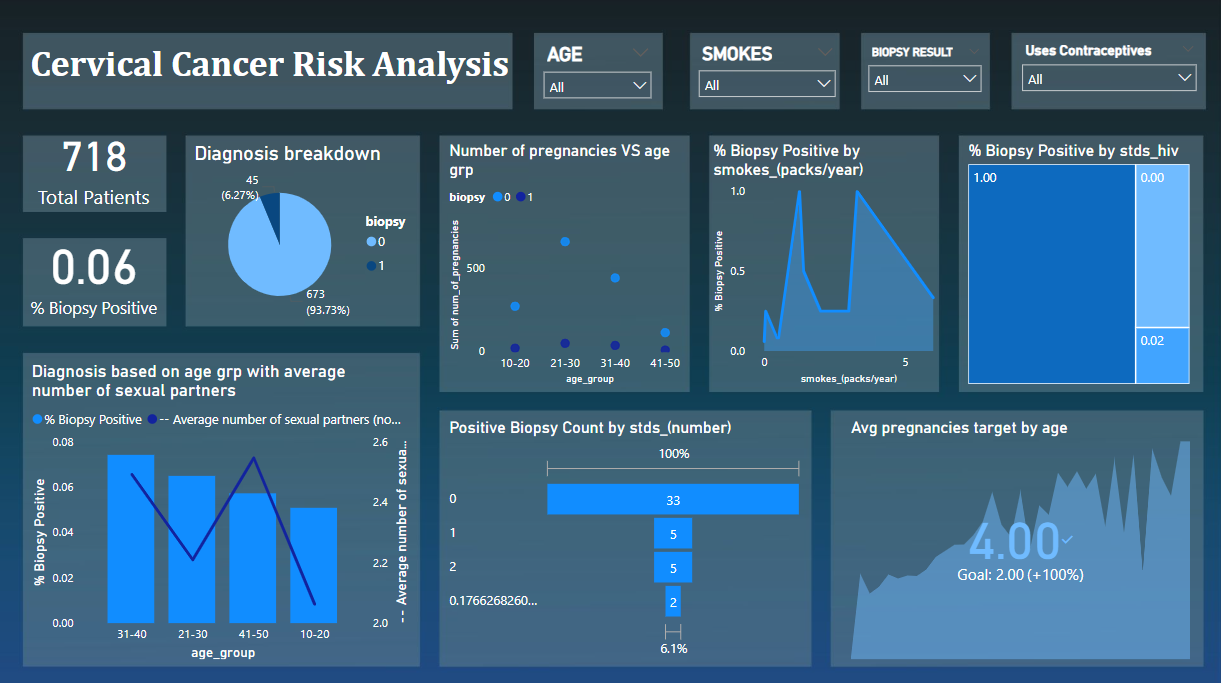

The page's visual inventory and layout, read from the dashboard file:
{"tool":"powerbi","page":{"name":"cervical cancer analysis dashboard","canvas":[1280,720],"ordinal":0},"visuals":[{"type":"slicer","fields":{"Values":["cancer_data.age_group"]},"box":[560.7,41.1,132.1,85.7],"z":0},{"type":"card","fields":{"Values":["cancer_data.Total Patients"]},"box":[14.3,110.7,173.2,125],"z":1000},{"type":"card","fields":{"Values":["cancer_data.% Biopsy Positive"]},"box":[14.3,210.7,173.2,150],"z":2000},{"type":"textbox","box":[28.6,41.1,517.9,69.6],"z":3000},{"type":"slicer","fields":{"Values":["cancer_data.smokes"]},"box":[723.2,41.1,162.5,85.7],"z":4000},{"type":"slicer","fields":{"Values":["cancer_data.biopsy"]},"box":[900,44.6,137.5,66.1],"z":5000},{"type":"slicer","fields":{"Values":["cancer_data.hormonal_contraceptives"]},"box":[1060.7,41.1,201.8,66.1],"z":6000},{"type":"pieChart","title":"Diagnosis breakdown","fields":{"Category":["cancer_data.biopsy"],"Y":["cancer_data.Total Patients"]},"box":[200,148.2,250,192.9],"z":7000},{"type":"lineStackedColumnComboChart","title":"Diagnosis based on age grp with average number of sexual partners","fields":{"Category":["cancer_data.age_group"],"Y":["cancer_data.% Biopsy Positive"],"Y2":["cancer_data.-- Average number of sexual partners (not diagnosed)Avg Partners - Not Diagnosed"]},"box":[30.4,378.6,403.6,316.1],"z":8000},{"type":"scatterChart","title":"Number of pregnancies VS age grp","fields":{"Series":["cancer_data.biopsy"],"X":["cancer_data.age_group"],"Y":["Sum(cancer_data.num_of_pregnancies)"]},"box":[466.1,148.2,257.1,258.9],"z":10000},{"type":"areaChart","fields":{"Y":["cancer_data.% Biopsy Positive"],"Category":["cancer_data.smokes_(packs/year)"]},"box":[742.9,148.2,250,258.9],"z":11000},{"type":"treemap","fields":{"Group":["cancer_data.stds_hiv"],"Values":["cancer_data.% Biopsy Positive"]},"box":[1008.9,148.2,241.1,258.9],"z":12000},{"type":"funnel","fields":{"Y":["cancer_data.Positive Biopsy Count"],"Category":["cancer_data.stds_(number)"]},"box":[466.1,437.5,380.4,257.1],"z":13000},{"type":"kpi","title":"Avg pregnancies target by age","fields":{"Indicator":["cancer_data.Avg Pregnancies"],"Goal":["cancer_data.target_numof_pregnancies"],"TrendLine":["cancer_data.age"]},"box":[885.7,437.5,364.3,257.1],"z":13001}]}

Visuals, with their boxes in screenshot pixels (x1, y1, x2, y2), scaled from the page's 1280x720 canvas onto the 1221x683 screenshot:
slicer - cancer_data.age_group: bbox(535, 39, 661, 120)
card - cancer_data.Total Patients: bbox(14, 105, 179, 224)
card - cancer_data.% Biopsy Positive: bbox(14, 200, 179, 342)
textbox: bbox(27, 39, 521, 105)
slicer - cancer_data.smokes: bbox(690, 39, 845, 120)
slicer - cancer_data.biopsy: bbox(859, 42, 990, 105)
slicer - cancer_data.hormonal_contraceptives: bbox(1012, 39, 1204, 102)
"Diagnosis breakdown" pieChart: bbox(191, 141, 429, 324)
"Diagnosis based on age grp with average number of sexual partners" lineStackedColumnComboChart: bbox(29, 359, 414, 659)
"Number of pregnancies VS age grp" scatterChart: bbox(445, 141, 690, 386)
areaChart - cancer_data.% Biopsy Positive x cancer_data.smokes_(packs/year): bbox(709, 141, 947, 386)
treemap - cancer_data.stds_hiv x cancer_data.% Biopsy Positive: bbox(962, 141, 1192, 386)
funnel - cancer_data.Positive Biopsy Count x cancer_data.stds_(number): bbox(445, 415, 807, 659)
"Avg pregnancies target by age" kpi: bbox(845, 415, 1192, 659)
